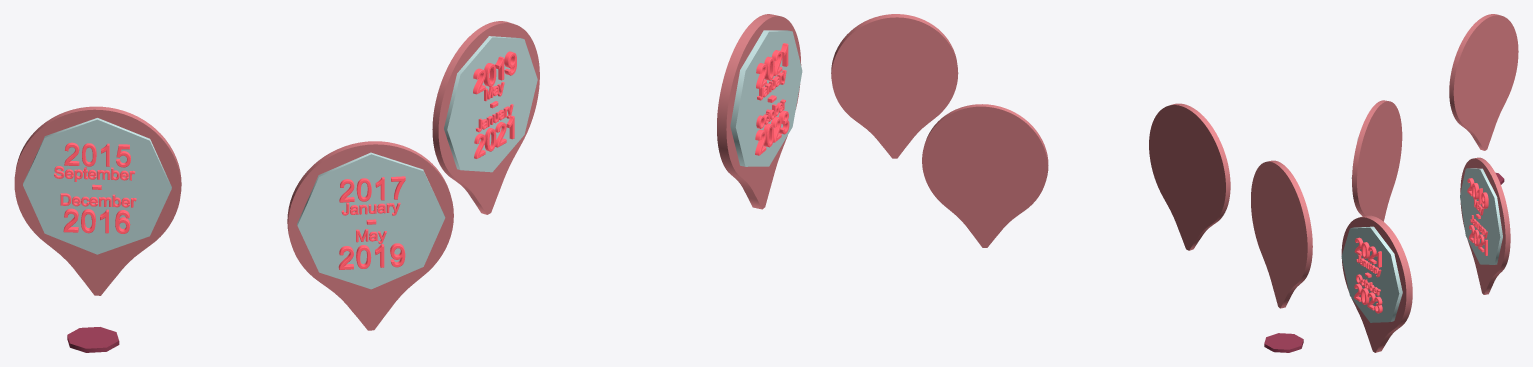
The model's file is assembly-date-bubble-transformed.glb.
3 views of the same model, side by side, from view 1: azimuth 30°, elevation 25°; view 2: azimuth 150°, elevation 25°; view 3: azimuth 270°, elevation 25° (orthographic). The views are drawn at different scales.
Visible parts, largest first — view 1: FirstDate, SecondDate, ThirdDate, FourthDate, Cylinder002.003; view 2: FourthDate, ThirdDate, SecondDate, FirstDate, Cylinder002.003; view 3: FourthDate, FirstDate, ThirdDate, SecondDate.
Boxes of the visible parts, left/top/right/bottom form: FirstDate: left=14, top=106, right=181, bottom=295; SecondDate: left=287, top=141, right=453, bottom=330; ThirdDate: left=432, top=21, right=539, bottom=214; FourthDate: left=717, top=14, right=802, bottom=209; Cylinder002.003: left=67, top=327, right=119, bottom=352; FourthDate: left=831, top=14, right=958, bottom=158; ThirdDate: left=922, top=104, right=1048, bottom=247; SecondDate: left=1149, top=103, right=1230, bottom=250; FirstDate: left=1251, top=160, right=1312, bottom=308; Cylinder002.003: left=1264, top=333, right=1303, bottom=352; FourthDate: left=1341, top=215, right=1412, bottom=352; FirstDate: left=1449, top=14, right=1518, bottom=150; ThirdDate: left=1460, top=157, right=1510, bottom=294; SecondDate: left=1351, top=100, right=1402, bottom=221.
Bounding box in the file's own units: 53.36 × 16.76 × 16.34.
